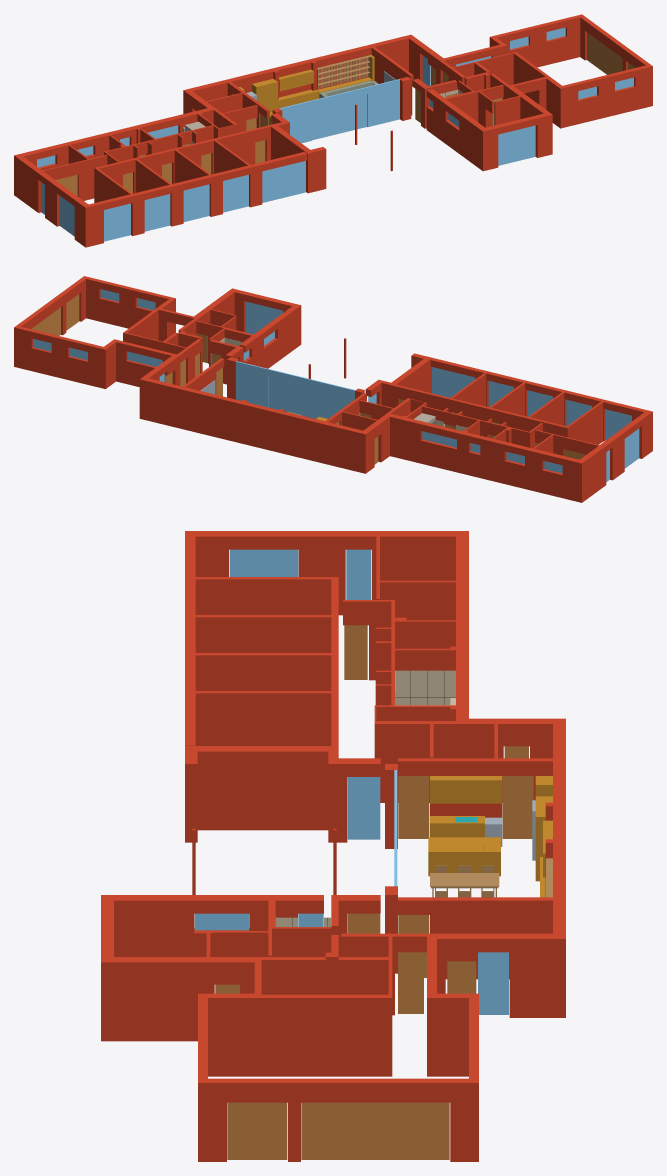
File: ground_floor.glb
The picture shows the model from 3 angles, top to bottom: view 1: azimuth 30°, elevation 25°; view 2: azimuth 150°, elevation 25°; view 3: azimuth 270°, elevation 25°; orthographic projection. The views are drawn at different scales.
Parts seen in each view (by area): view 1: masonry (×36), glazing (×9), oak, cabinet (×2), door; view 2: masonry (×33), glazing (×9), door (×2); view 3: masonry (×37), door (×7), glazing (×5), oak.
Part boxes in pixels (x1,y1,x2,y2): masonry (×36): (14,14,652,247); glazing (×9): (59,79,535,241); oak: (317,55,370,89); cabinet (×2): (279,69,314,107); door: (587,32,622,74); masonry (×33): (14,276,652,502); glazing (×9): (236,301,639,468); door (×2): (31,294,79,335); masonry (×37): (101,531,565,1161); door (×7): (227,625,533,1159); glazing (×5): (194,549,508,1014); oak: (430,873,499,897).
Bounding box in the file's own units: 45.05 × 3.05 × 16.05.
